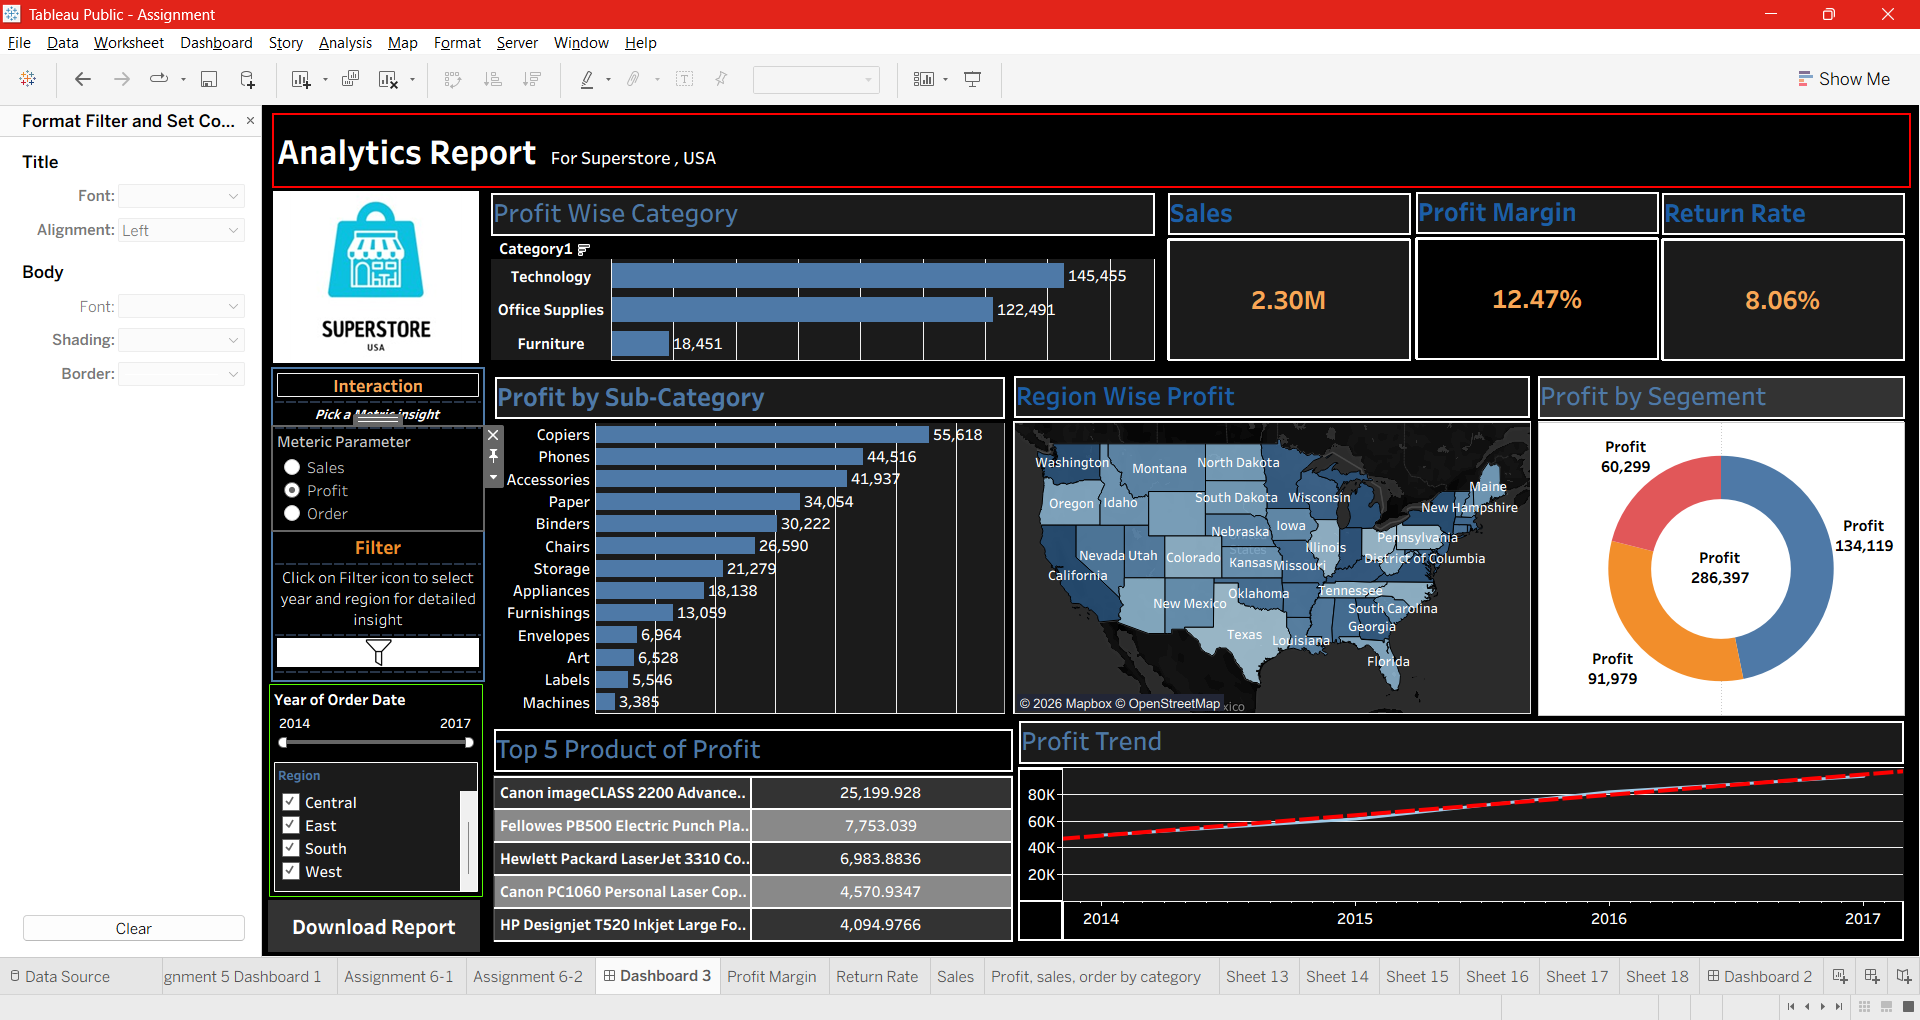

The dashboard page shown, as its layout file describes it:
{"tool":"tableau","page":{"name":"Dashboard ","canvas":[1000,1000],"units":"permille","ordinal":0},"visuals":[{"type":"text","box":[6,9.4,989.1,88.1]},{"type":"image","param":"Image/Picture_Tableau.jpg","box":[6.6,101.1,124.3,202.1]},{"type":"worksheet","title":"Profit Margin","mark":"Automatic","box":[695.8,102.2,147.2,197.4]},{"type":"worksheet","title":"Profit, sales, order by category","mark":"Automatic","rows":["Category"],"cols":["selected choice (copy)_1193036513087507"],"box":[138.2,103.4,400.7,197.4]},{"type":"worksheet","title":"Sales","mark":"Automatic","box":[546.2,103.4,147.2,197.4]},{"type":"worksheet","title":"Return Rate","mark":"Automatic","box":[844.3,103.4,147.2,197.4]},{"type":"text","box":[6.6,310.2,126.7,37.6]},{"type":"worksheet","title":"Region  wise Trend","mark":"Automatic","box":[453.2,318.4,312.6,397.2]},{"type":"worksheet","title":"segment pie chart","mark":"Pie","cols":["Calculation_1193036570570787","Calculation_1193036570599461"],"box":[770.1,318.4,221.5,399.5]},{"type":"worksheet","title":"profit, sales, order by Sub-category","mark":"Automatic","rows":["Sub-Category"],"cols":["selected choice (copy)_1193036513087507"],"box":[140,319.6,308.4,396]},{"type":"text","box":[6.6,347.8,126.7,30.6]},{"type":"parameter","param":"[Parameters].[Parameter 2]","box":[6.6,378.4,126.7,121]},{"type":"text","box":[6.6,499.4,126.7,38.8]},{"type":"text","box":[6.6,538.2,126.7,83.4]},{"type":"dashboard-object","box":[6.6,621.6,126.7,43.5]},{"type":"filter","title":"Month wise trend","param":"[federated.0eqxz7i10ds5pl12b4szo0oc16mv].[tyr:Order Date:qk]","box":[4.8,681.6,128,85.8]},{"type":"worksheet","title":"Month wise trend","mark":"Automatic","rows":["selected choice (copy)_1193036513087507"],"cols":["Order Date"],"box":[456.2,723.9,534.7,258.5]},{"type":"worksheet","title":"Top 5 Product ","mark":"Automatic","rows":["Product Name"],"box":[139.4,733.2,313.8,250.3]},{"type":"filter","title":"Profit, sales, order by category","param":"[federated.0eqxz7i10ds5pl12b4szo0oc16mv].[none:Region:nk]","box":[4.8,767.3,128,162.2]},{"type":"dashboard-object","box":[3.6,934.2,127.9,61.1]}]}

Visuals, with their boxes on the dashboard's canvas, which has no fixed pixel size, in thousandths of its width and height (x1, y1, x2, y2). These are canvas units, not pixel positions in the 1920x1020 screenshot, which may show the page scaled, cropped or inside an application window:
text: {"left": 6, "top": 9, "right": 995, "bottom": 98}
image: {"left": 7, "top": 101, "right": 131, "bottom": 303}
"Profit Margin" worksheet: {"left": 696, "top": 102, "right": 843, "bottom": 300}
"Profit, sales, order by category" worksheet: {"left": 138, "top": 103, "right": 539, "bottom": 301}
"Sales" worksheet: {"left": 546, "top": 103, "right": 693, "bottom": 301}
"Return Rate" worksheet: {"left": 844, "top": 103, "right": 992, "bottom": 301}
text: {"left": 7, "top": 310, "right": 133, "bottom": 348}
"Region  wise Trend" worksheet: {"left": 453, "top": 318, "right": 766, "bottom": 716}
"segment pie chart" worksheet (Pie marks): {"left": 770, "top": 318, "right": 992, "bottom": 718}
"profit, sales, order by Sub-category" worksheet: {"left": 140, "top": 320, "right": 448, "bottom": 716}
text: {"left": 7, "top": 348, "right": 133, "bottom": 378}
parameter: {"left": 7, "top": 378, "right": 133, "bottom": 499}
text: {"left": 7, "top": 499, "right": 133, "bottom": 538}
text: {"left": 7, "top": 538, "right": 133, "bottom": 622}
dashboard-object: {"left": 7, "top": 622, "right": 133, "bottom": 665}
"Month wise trend" filter: {"left": 5, "top": 682, "right": 133, "bottom": 767}
"Month wise trend" worksheet: {"left": 456, "top": 724, "right": 991, "bottom": 982}
"Top 5 Product " worksheet: {"left": 139, "top": 733, "right": 453, "bottom": 984}
"Profit, sales, order by category" filter: {"left": 5, "top": 767, "right": 133, "bottom": 930}
dashboard-object: {"left": 4, "top": 934, "right": 132, "bottom": 995}
